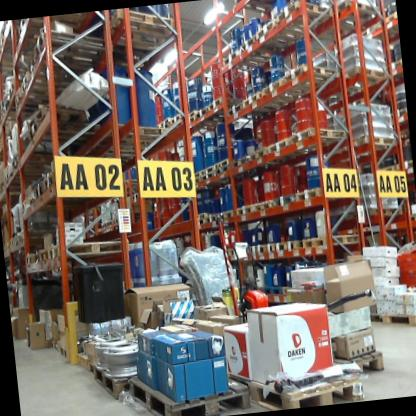pallet: (217, 350, 369, 414), (127, 353, 255, 416), (24, 100, 89, 208), (18, 18, 117, 72), (16, 54, 105, 98), (103, 5, 181, 54), (318, 338, 391, 384), (254, 6, 316, 54), (87, 356, 145, 406), (26, 115, 113, 148), (276, 54, 343, 94), (100, 112, 168, 151), (272, 0, 331, 40), (39, 159, 104, 195), (47, 234, 124, 264), (239, 25, 295, 66), (220, 44, 278, 78), (289, 122, 354, 152), (260, 71, 317, 105), (364, 295, 416, 331), (301, 227, 363, 257), (240, 84, 289, 120), (340, 132, 399, 158), (265, 132, 321, 159), (207, 89, 249, 125), (337, 0, 384, 28), (343, 64, 392, 90), (229, 0, 288, 21), (74, 348, 102, 383), (357, 205, 404, 225), (195, 102, 229, 126), (246, 142, 270, 167), (243, 240, 277, 257), (34, 243, 55, 269), (276, 235, 301, 256), (373, 160, 400, 178), (361, 16, 385, 36), (21, 248, 42, 270), (294, 187, 324, 202), (53, 342, 74, 362), (270, 190, 296, 206), (227, 155, 250, 173), (13, 224, 31, 246), (242, 202, 272, 215), (393, 154, 413, 173), (211, 152, 232, 170), (386, 53, 402, 75), (209, 207, 234, 221), (167, 111, 185, 128), (0, 162, 16, 180), (213, 161, 231, 177), (4, 230, 18, 250), (225, 204, 245, 218), (10, 150, 23, 171), (384, 8, 397, 29), (224, 244, 242, 256), (199, 170, 215, 183), (155, 115, 171, 127), (198, 214, 210, 228), (198, 164, 214, 174), (183, 115, 197, 126), (196, 209, 211, 219), (157, 121, 168, 134), (185, 107, 198, 117), (191, 169, 200, 179), (191, 177, 200, 186)
small_load_carrier: (396, 266, 416, 293), (390, 250, 416, 269)
